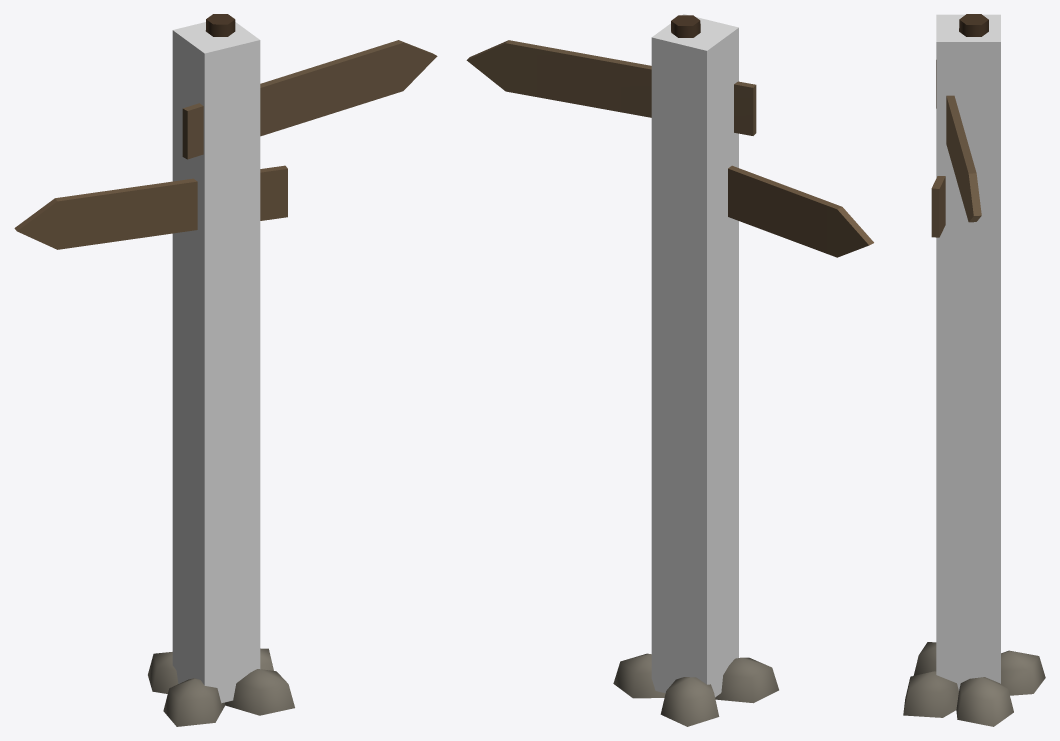
The model's file is signpost.glb.
The picture shows the model from 3 angles, left to right: view 1: azimuth 30°, elevation 25°; view 2: azimuth 150°, elevation 25°; view 3: azimuth 270°, elevation 25°; orthographic projection.
Parts seen in each view (by area): view 1: COL_post, signpost; view 2: COL_post, signpost; view 3: COL_post, signpost.
Boxes of the visible parts, x1,y1,x2,y2 form: COL_post: (172, 22, 260, 703); signpost: (14, 14, 437, 726); COL_post: (651, 14, 738, 697); signpost: (466, 15, 873, 726); COL_post: (936, 14, 1000, 690); signpost: (903, 14, 1045, 726).
Size of the model in its own units: 1.79 by 2.78 by 0.5302.
